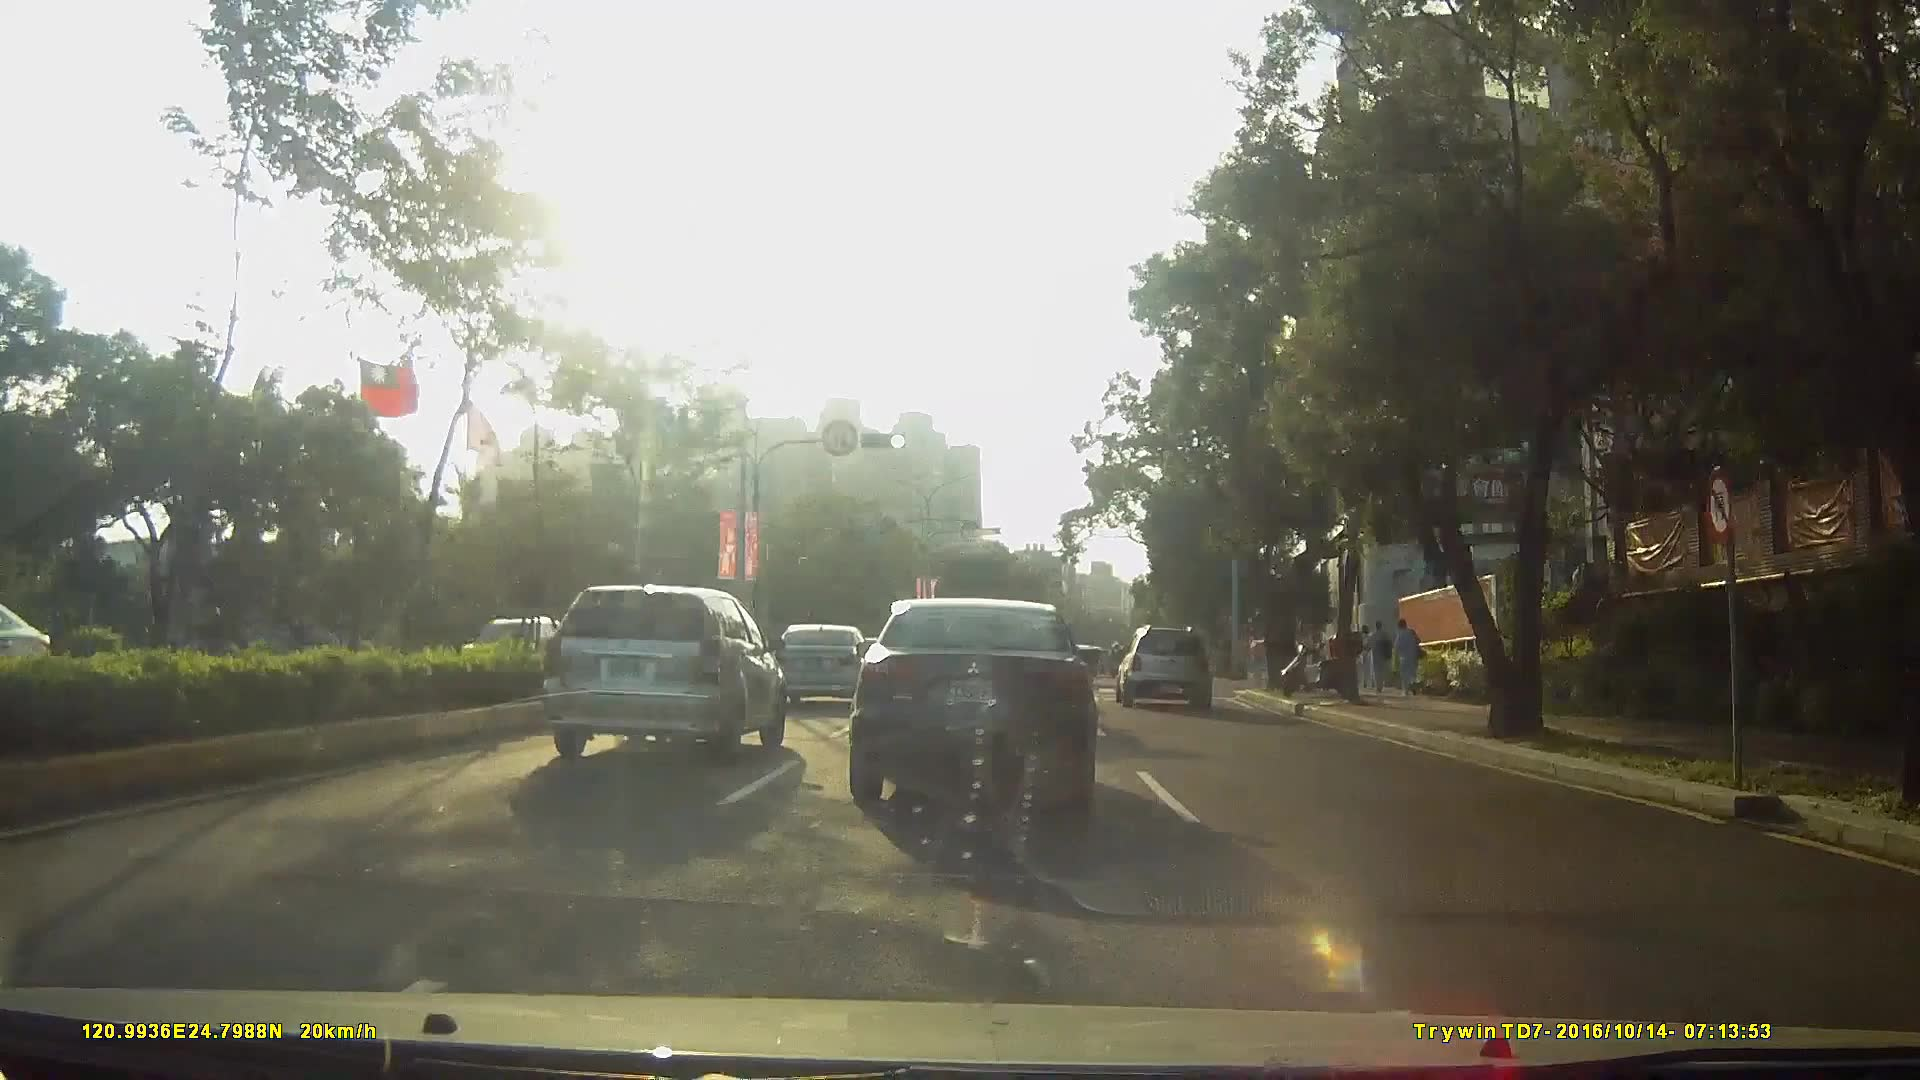pedestrian: (1393, 616, 1426, 700), (1370, 616, 1397, 696)
vehicle: (844, 593, 1095, 813), (536, 581, 787, 761), (1112, 622, 1223, 710), (773, 619, 877, 710)
